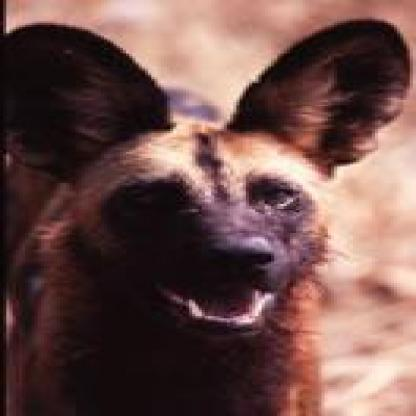African_hunting_dog: (0, 12, 403, 411)
